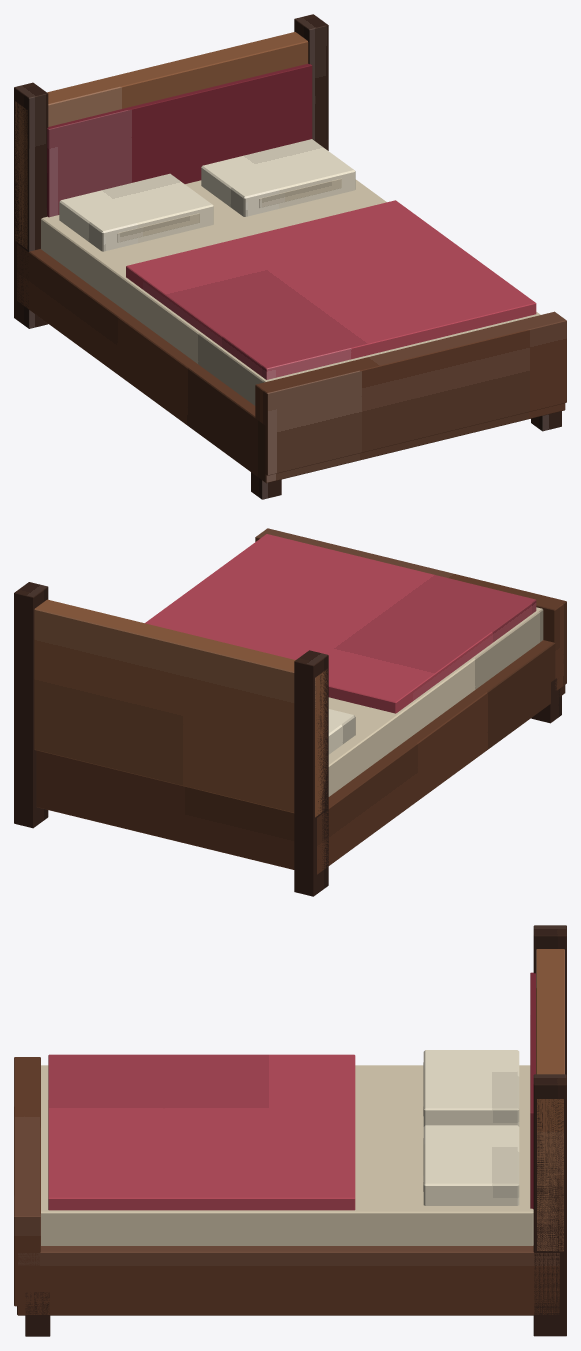
Rendered from double_bed_burgundy.glb.
3 views of the same model, one above another, from view 1: azimuth 30°, elevation 25°; view 2: azimuth 150°, elevation 25°; view 3: azimuth 270°, elevation 25° (orthographic). The views are drawn at different scales.
Parts seen in each view (by area): view 1: Blanket, Footboard, HeadboardInset, BedFrame, Mattress, HeadboardPanel, Pillow_1, Pillow_2, HeadPostL, HeadPostR, PillowBand_1, PillowBand_2; view 2: HeadboardPanel, Blanket, BedFrame, Mattress, HeadPostL, HeadPostR, Footboard, Pillow_1, FootL; view 3: Blanket, BedFrame, Mattress, Pillow_2, HeadboardPanel, HeadPostR, Pillow_1, Footboard, HeadboardInset, HeadPostL, FootR.
Boxes of the visible parts, <box> form: Blanket: <box>126,200,536,379</box>; Footboard: <box>255,311,566,475</box>; HeadboardInset: <box>47,63,312,217</box>; BedFrame: <box>17,244,565,483</box>; Mattress: <box>41,179,540,405</box>; HeadboardPanel: <box>15,32,308,249</box>; Pillow_1: <box>59,173,213,251</box>; Pillow_2: <box>201,139,355,216</box>; HeadPostL: <box>14,82,48,328</box>; HeadPostR: <box>294,14,328,150</box>; PillowBand_1: <box>117,213,199,242</box>; PillowBand_2: <box>259,178,341,207</box>; HeadboardPanel: <box>34,599,327,817</box>; Blanket: <box>145,534,536,713</box>; BedFrame: <box>36,640,565,874</box>; Mattress: <box>328,607,543,796</box>; HeadPostL: <box>294,650,328,896</box>; HeadPostR: <box>14,582,48,828</box>; Footboard: <box>255,528,566,690</box>; Pillow_1: <box>328,709,355,754</box>; FootL: <box>531,678,561,723</box>; Blanket: <box>48,1054,355,1210</box>; BedFrame: <box>17,1245,559,1315</box>; Mattress: <box>41,1065,533,1245</box>; Pillow_2: <box>423,1125,519,1205</box>; HeadboardPanel: <box>536,949,564,1251</box>; HeadPostR: <box>533,1074,566,1336</box>; Pillow_1: <box>423,1050,519,1126</box>; Footboard: <box>14,1057,40,1306</box>; HeadboardInset: <box>530,972,535,1209</box>; HeadPostL: <box>533,925,566,1074</box>; FootR: <box>25,1292,50,1336</box>.
Bounding box in the file's own units: 1.82 × 1.34 × 2.66.
Materials: 1 (1 with a texture image).
